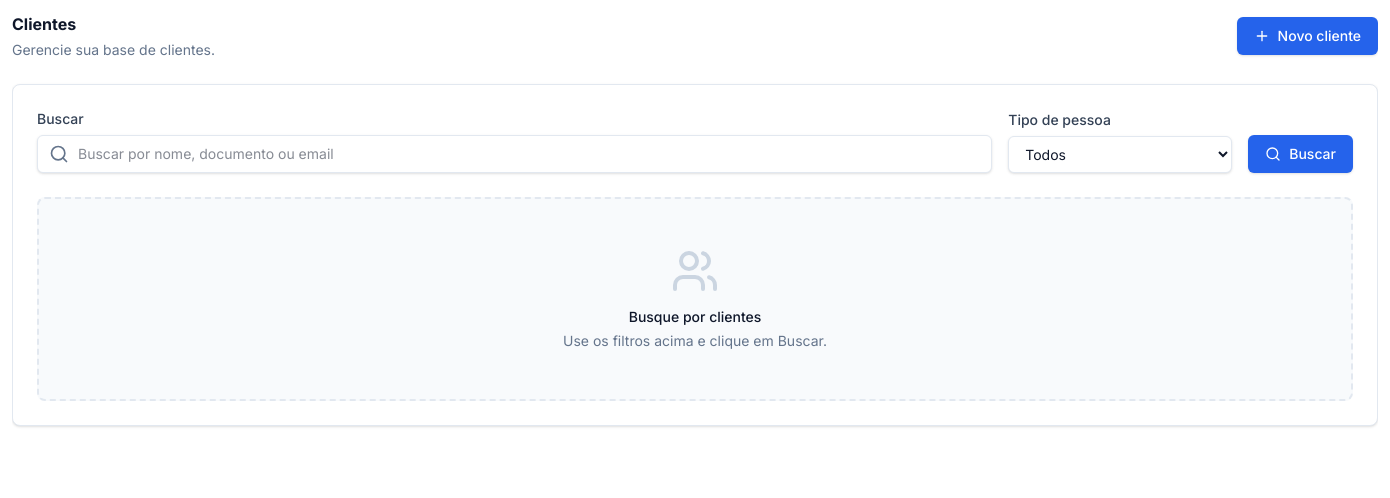
ClientList page › shows empty state when no results
This screenshot has width=1390, height=498.
Click the button "Buscar".
click(1301, 154)  # box [1248,135,1353,173]
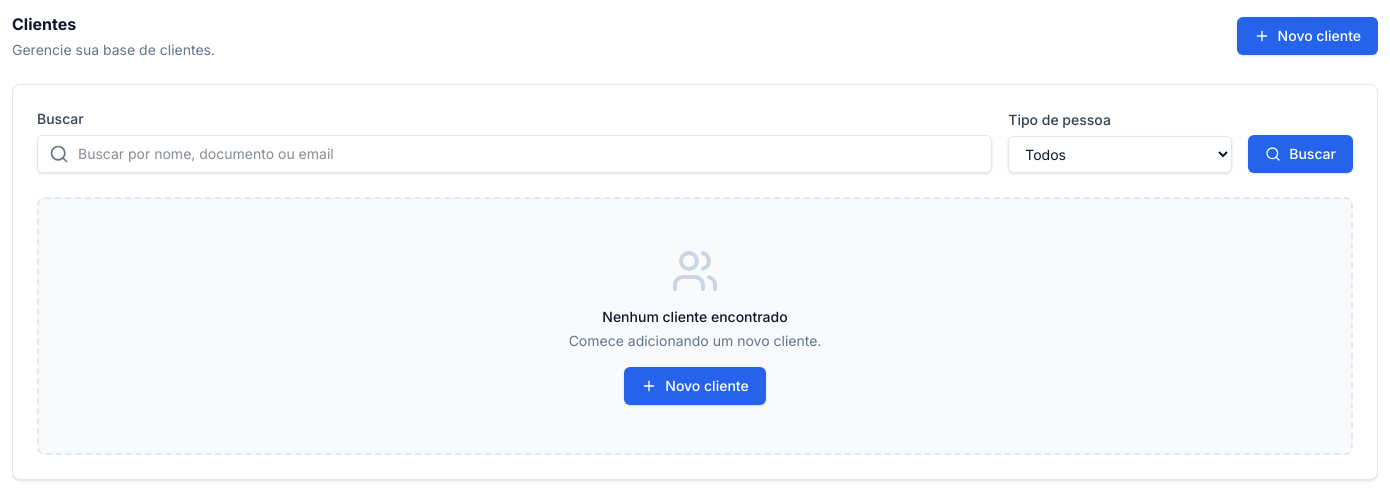
Check: the heading "Nenhum cliente encontrado" is shown, box [602,308,788,325]
